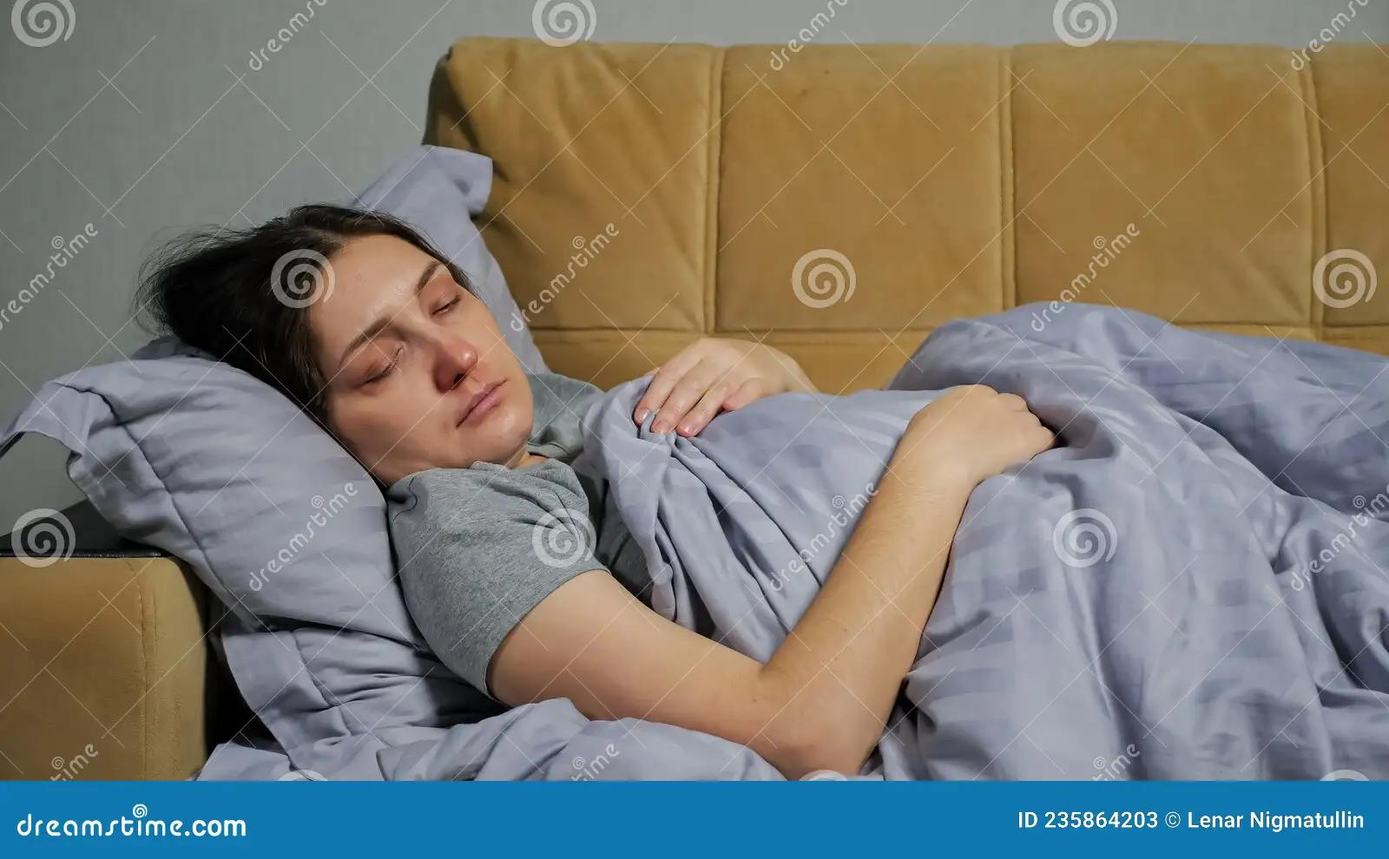blanket: (364, 294, 1389, 782)
